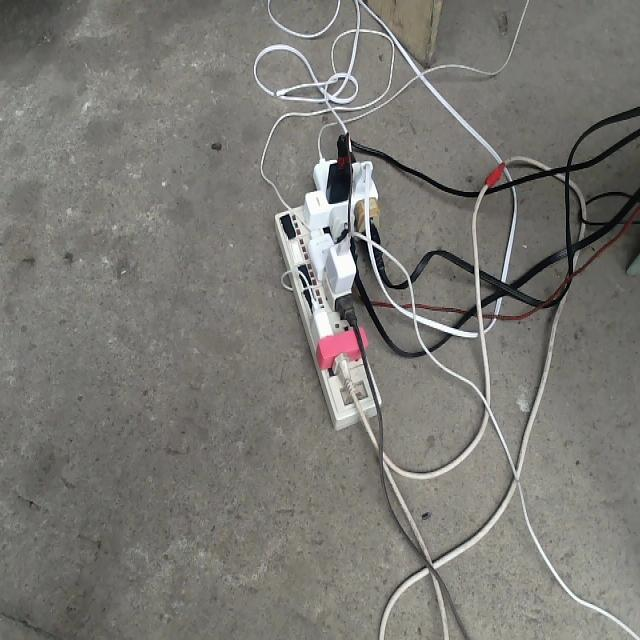-: (261, 130, 412, 438)
